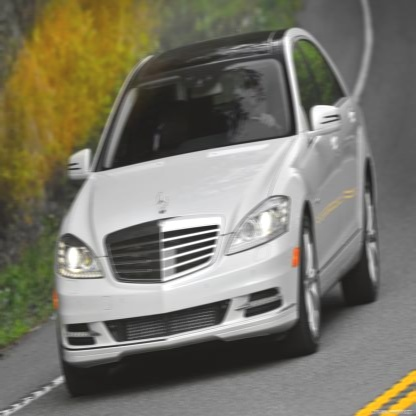Vehicle: (49, 23, 382, 400)
